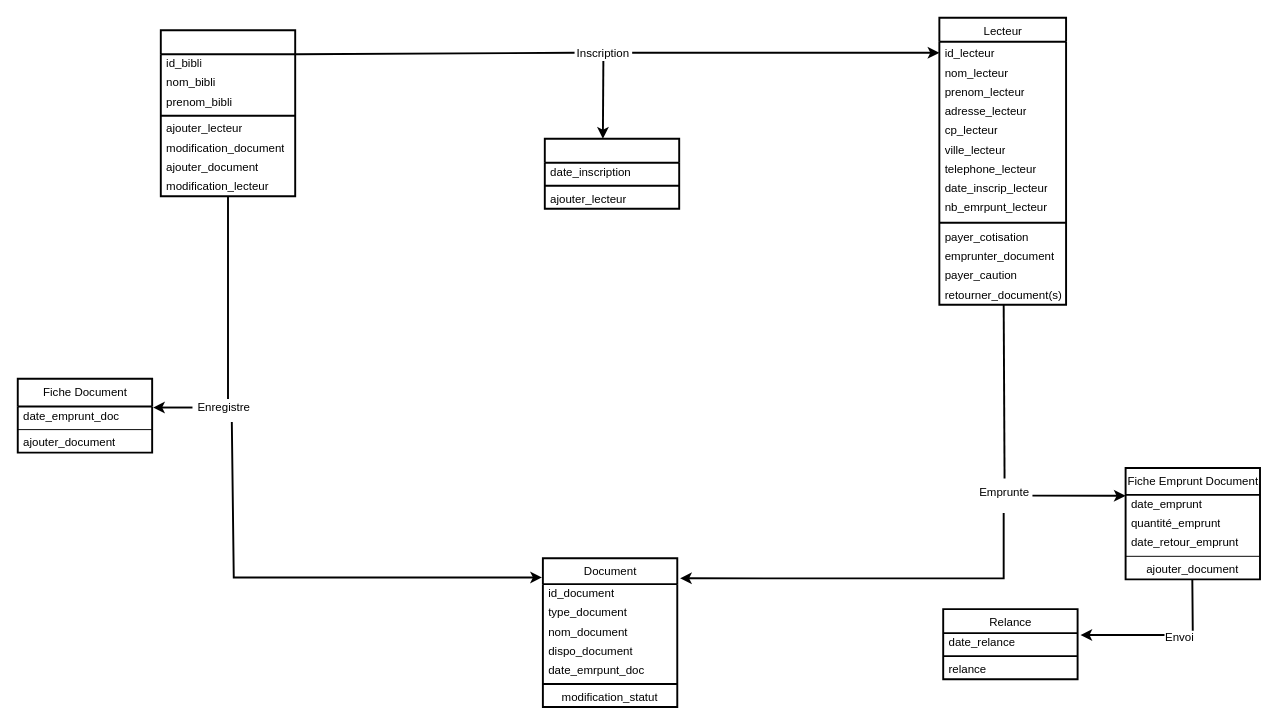
Image size: 1277x724. Some labels were removed from this diagram. Here are the shapes that lost their labels. From the top down, the box of each, then its label:
(159, 29, 296, 197): Bibliothécaire
(543, 137, 680, 209): Fiche Lecteur
